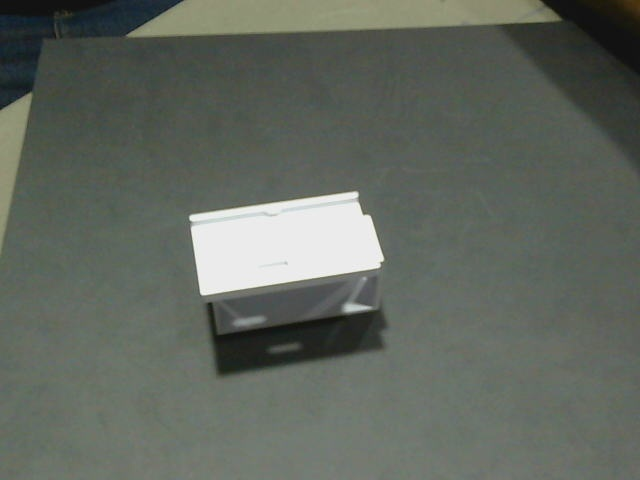enclosure_defective: (190, 192, 384, 295)
